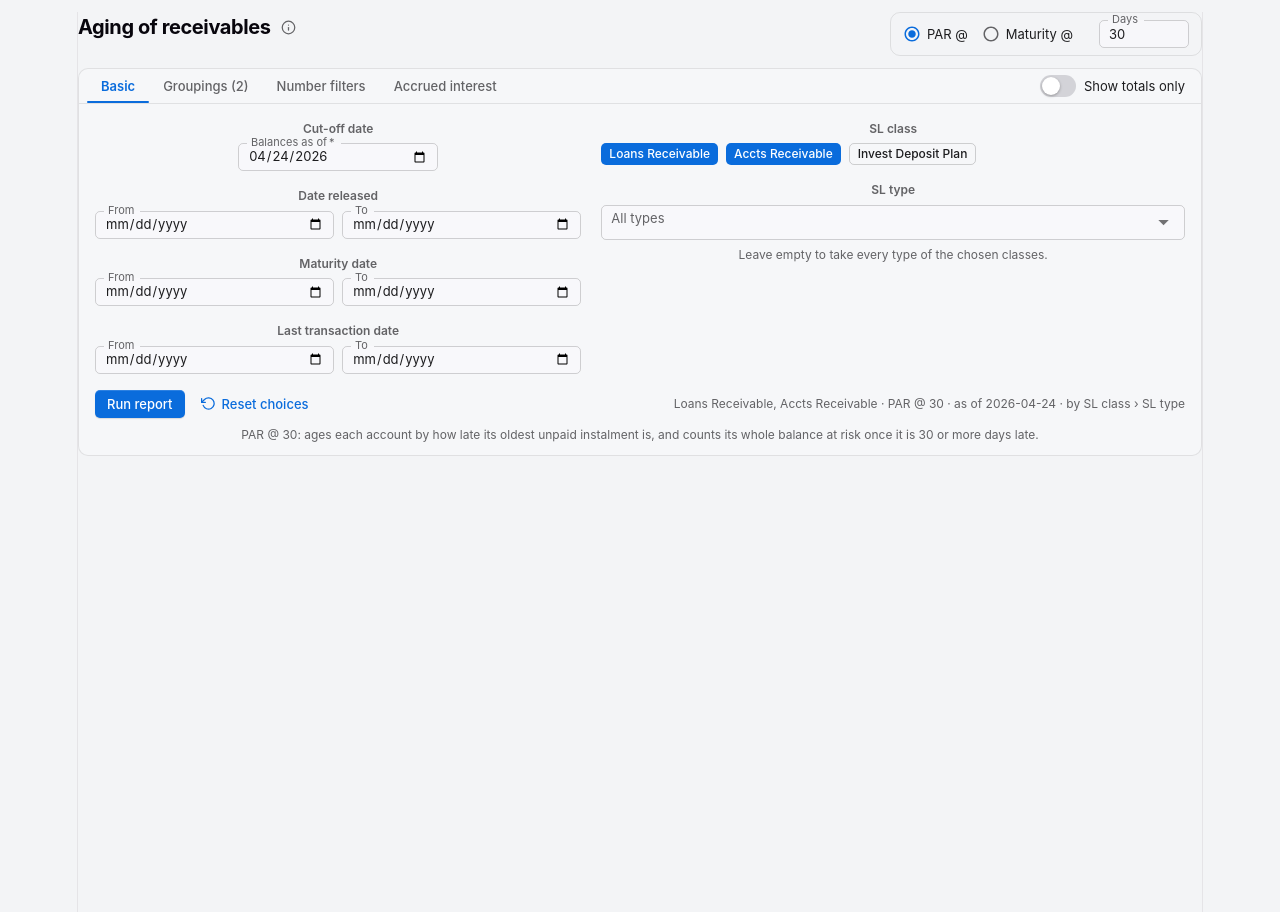
Test case: Aging of receivables › shows why a run failed
Click the button "Run report" at (140, 404), box [95, 390, 184, 418]
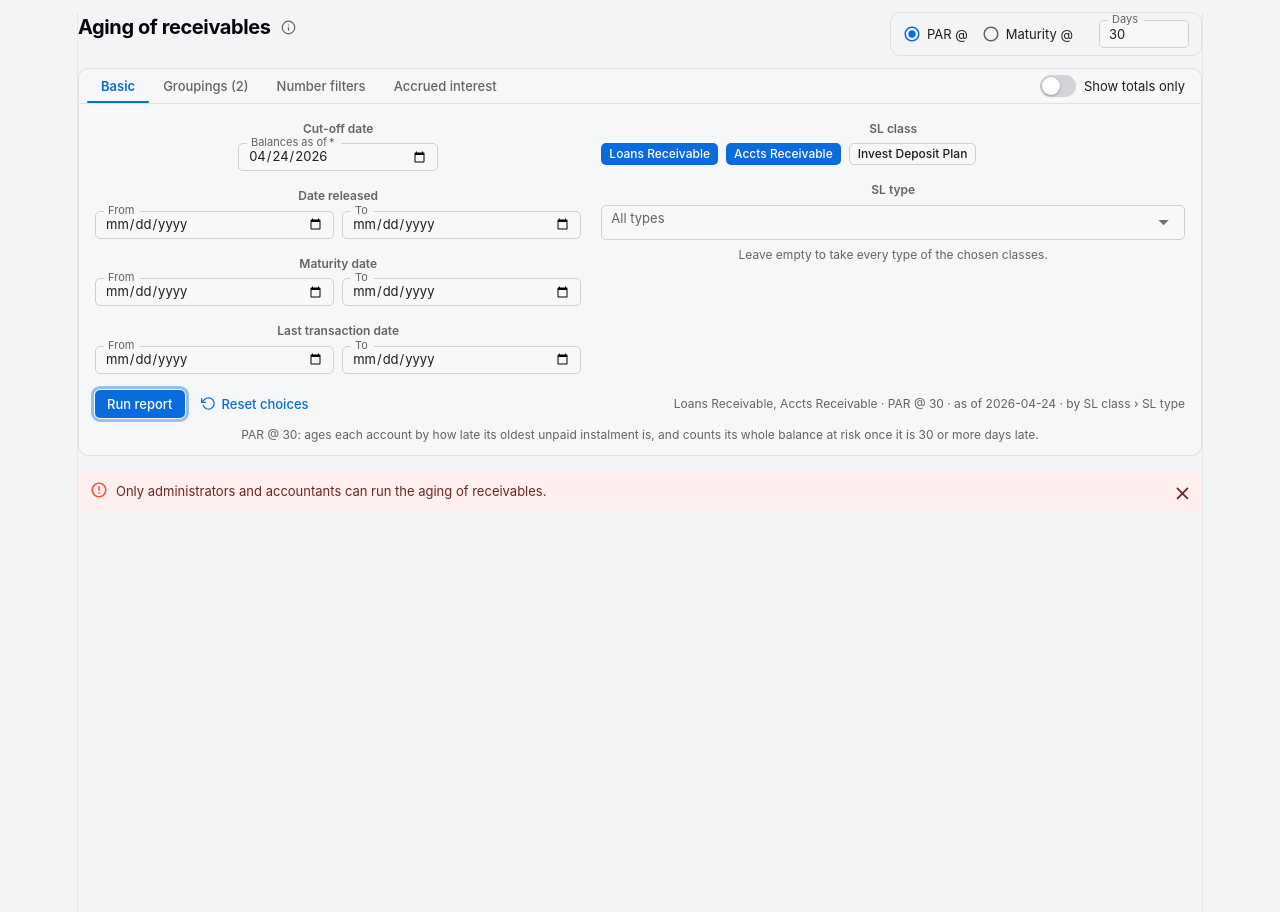
Now the text "Only administrators and accountants" is shown, box [116, 483, 546, 499]
